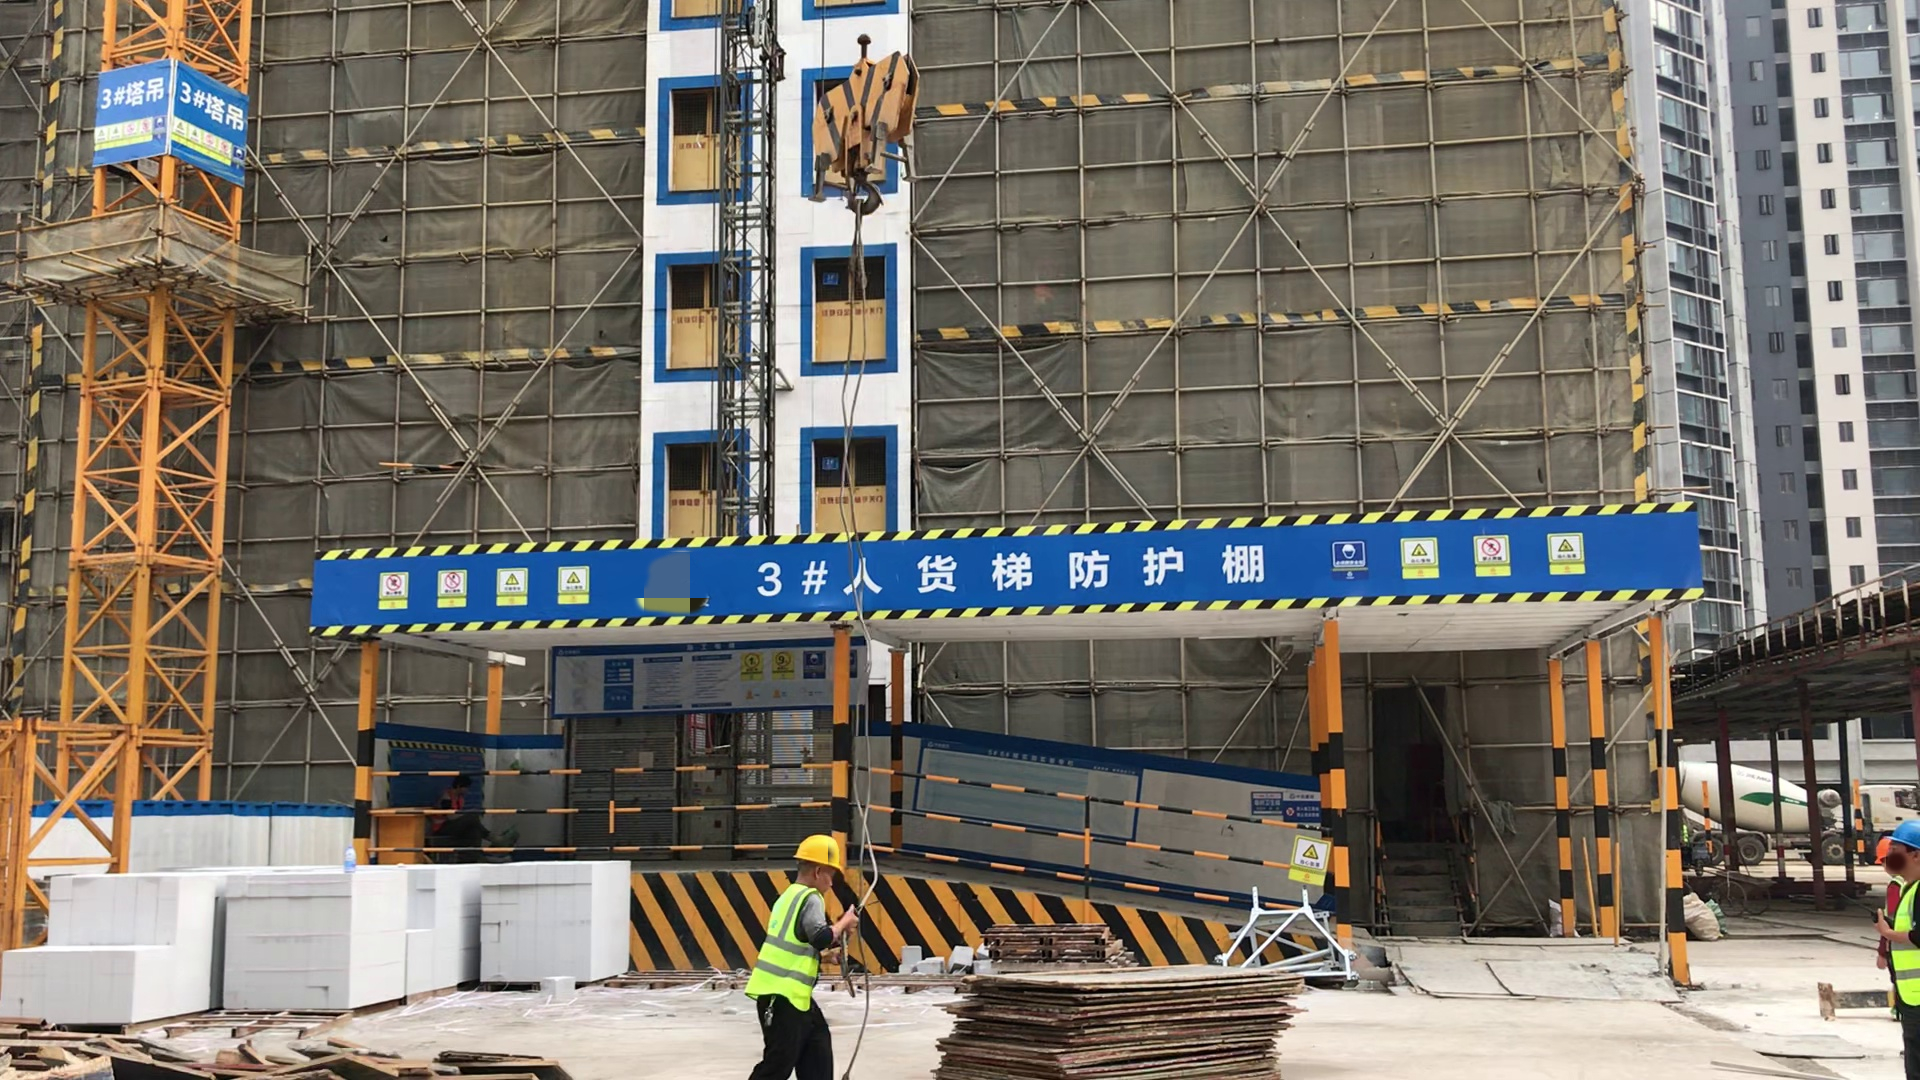board: (935, 956, 1306, 1080)
brick: (4, 860, 629, 1024)
helmet: (790, 835, 840, 872), (1895, 818, 1920, 846)
hook: (809, 49, 911, 217)
person: (744, 835, 848, 1080), (1877, 817, 1920, 1078)
slogan: (1321, 533, 1597, 581), (377, 567, 609, 602), (170, 112, 236, 160), (1249, 790, 1321, 824), (1288, 835, 1330, 888), (92, 121, 156, 151)
vest: (746, 882, 825, 1014), (1885, 880, 1920, 1006)
